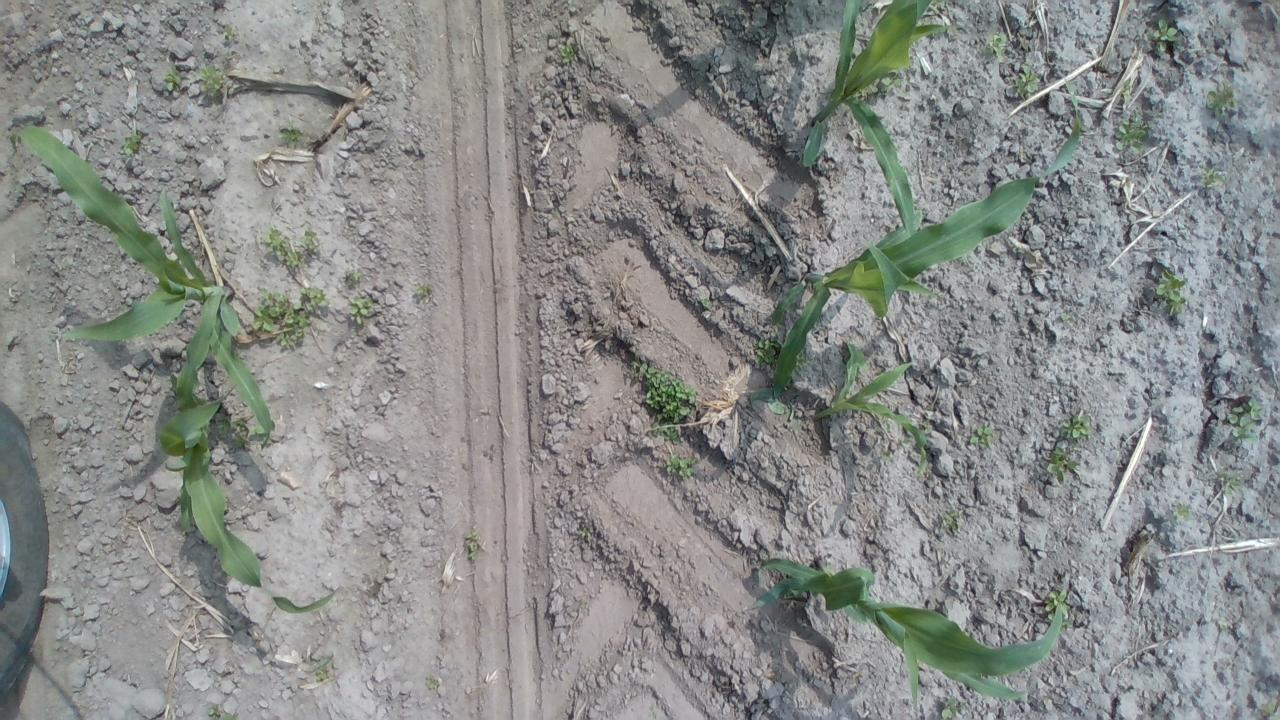Maize: (748, 82, 1082, 408), (12, 110, 273, 448), (747, 550, 1072, 720), (164, 358, 343, 618), (801, 1, 948, 243), (811, 334, 932, 478)
Weeds: (629, 354, 701, 444), (246, 284, 332, 351), (262, 221, 322, 270), (214, 410, 274, 450), (768, 388, 808, 434), (1152, 268, 1188, 316), (1226, 397, 1260, 444), (1204, 77, 1240, 117), (1116, 109, 1149, 152), (1045, 446, 1080, 483), (1144, 18, 1180, 53), (1009, 61, 1041, 100), (746, 334, 782, 368), (279, 118, 313, 152), (1046, 588, 1074, 628), (858, 72, 904, 96), (197, 62, 226, 100), (663, 451, 699, 481), (1059, 412, 1092, 442), (1217, 465, 1246, 497), (348, 296, 376, 326), (313, 650, 337, 682), (121, 127, 147, 156), (981, 30, 1008, 57), (940, 696, 968, 720), (161, 62, 184, 91), (969, 424, 994, 449), (1200, 166, 1226, 188), (464, 530, 482, 561), (207, 704, 240, 720), (558, 40, 578, 63), (942, 508, 962, 530), (792, 348, 806, 377), (1172, 502, 1192, 522), (422, 674, 442, 693), (1261, 703, 1280, 720), (1122, 77, 1134, 102), (415, 280, 432, 296), (222, 24, 236, 42), (346, 269, 364, 283), (47, 327, 60, 346), (898, 436, 915, 449), (2, 334, 14, 351), (881, 419, 894, 433), (1060, 311, 1072, 325), (576, 526, 591, 537), (880, 450, 896, 459), (919, 420, 929, 434), (934, 0, 948, 10), (702, 297, 712, 309), (328, 594, 337, 604), (959, 254, 968, 263), (39, 58, 50, 65), (1034, 271, 1040, 280)
